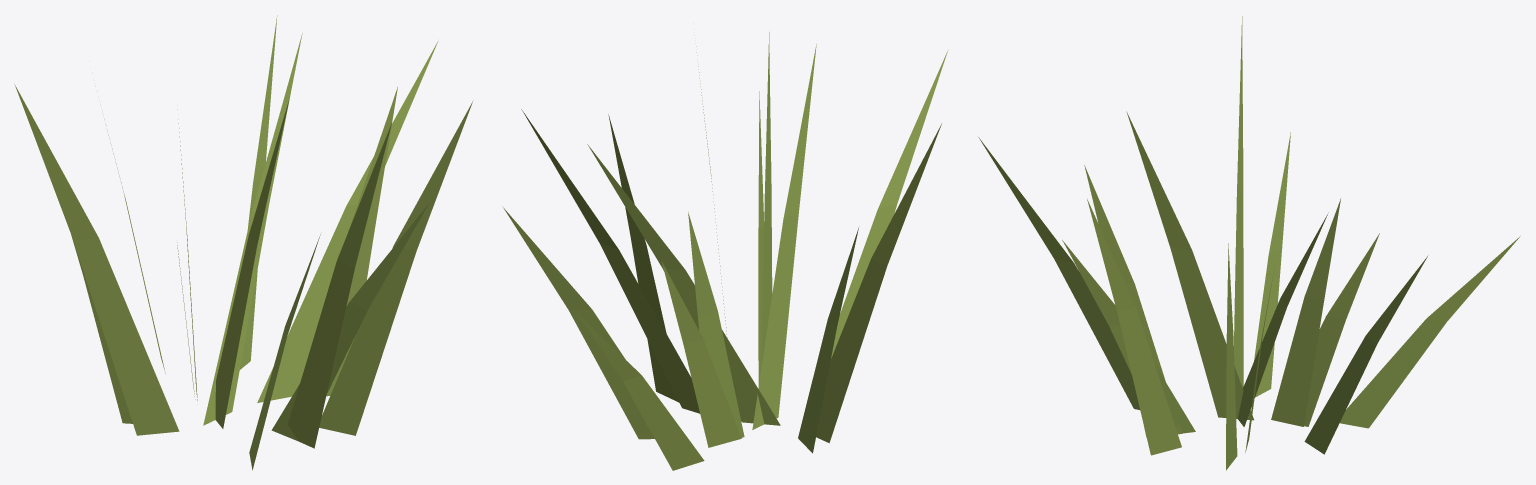
Rendered from Grass_Tuft_A.fbx.
The picture shows the model from 3 angles, left to right: view 1: azimuth 30°, elevation 25°; view 2: azimuth 150°, elevation 25°; view 3: azimuth 270°, elevation 25°; orthographic projection. The views are drawn at different scales.
Parts seen in each view (by area): view 1: Grass_Tuft_A.001; view 2: Grass_Tuft_A.001; view 3: Grass_Tuft_A.001.
Part boxes in pixels (x1,y1,x2,y2): Grass_Tuft_A.001: (14, 15, 473, 470); Grass_Tuft_A.001: (502, 32, 948, 470); Grass_Tuft_A.001: (978, 16, 1520, 470).
Size of the model in its own units: 0.4226 by 0.348 by 0.5311.
